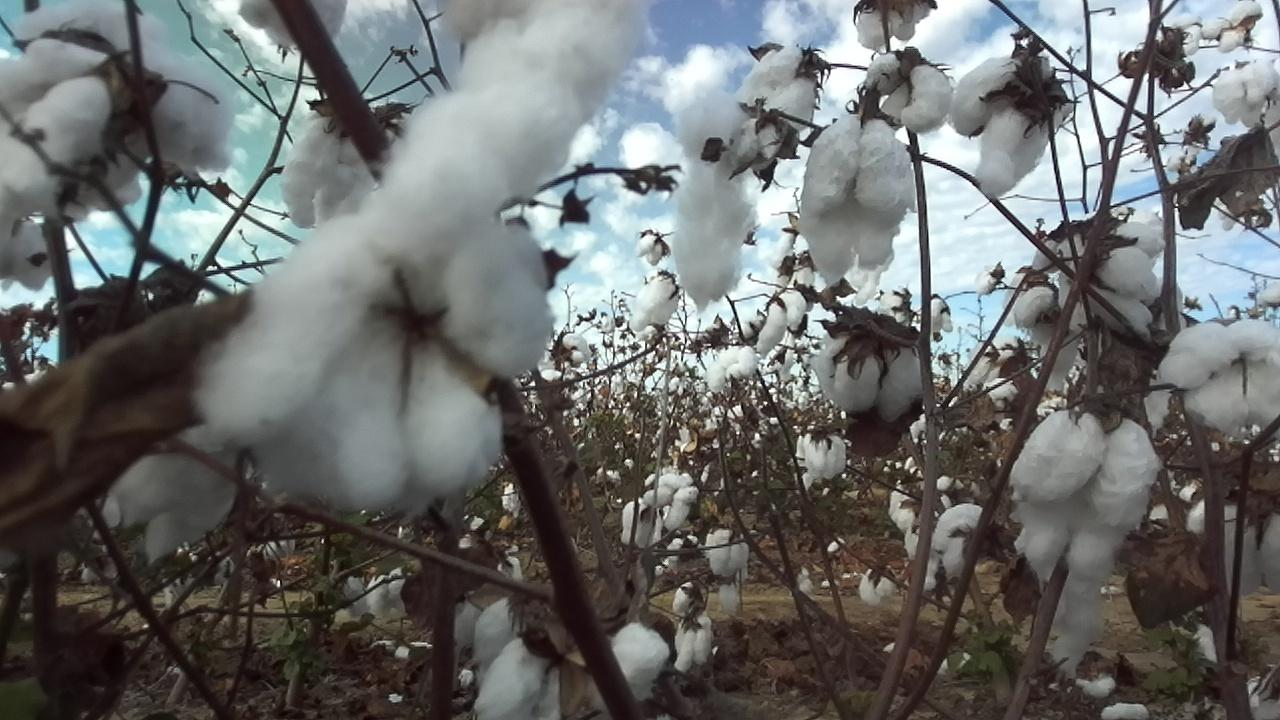cotton_ready: (199, 0, 645, 515), (1010, 407, 1169, 672), (12, 0, 237, 170), (0, 61, 145, 224), (99, 405, 240, 569), (672, 86, 758, 310), (798, 123, 912, 284), (280, 113, 432, 230), (950, 57, 1074, 197), (1058, 217, 1165, 334), (1164, 320, 1280, 427), (813, 330, 930, 427), (1187, 494, 1280, 599), (449, 537, 525, 644), (475, 637, 565, 720), (591, 624, 674, 714), (733, 44, 819, 130), (864, 54, 954, 134), (1014, 287, 1080, 391), (235, 0, 351, 50), (477, 597, 533, 691), (0, 219, 64, 295), (929, 502, 986, 581), (1214, 62, 1278, 127), (857, 0, 933, 49), (759, 286, 808, 354), (889, 464, 924, 559), (630, 270, 679, 334), (730, 114, 785, 169), (1032, 227, 1097, 272), (1199, 6, 1262, 52), (795, 430, 849, 478), (1242, 674, 1280, 720)
